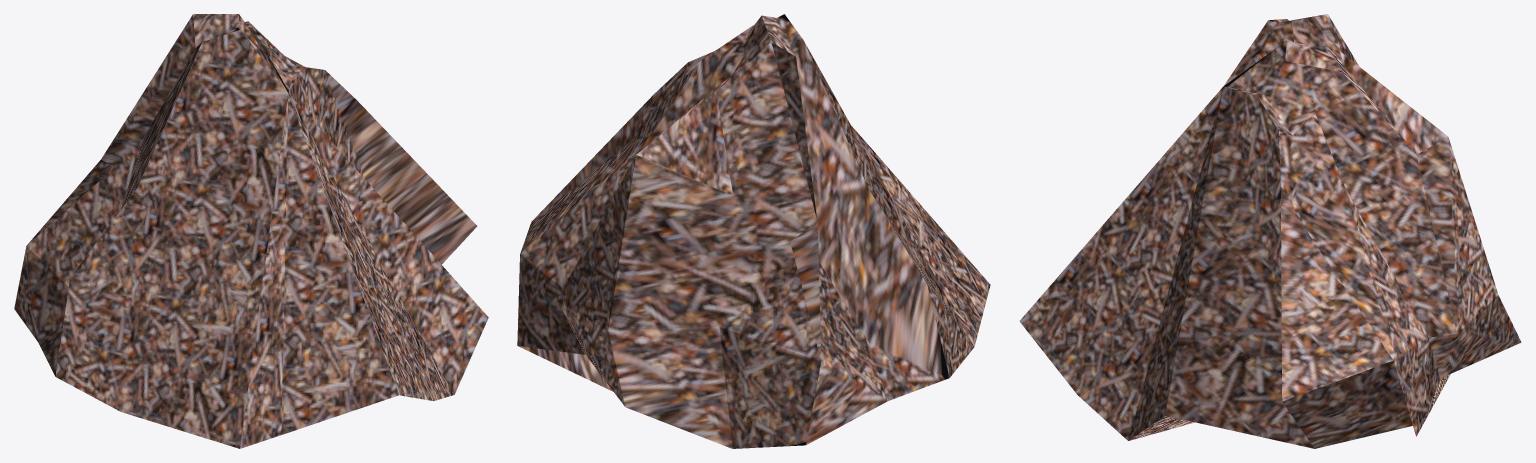
The model's file is Garbage.fbx.
3 renders of one model, left to right at view 1: azimuth 30°, elevation 25°; view 2: azimuth 150°, elevation 25°; view 3: azimuth 270°, elevation 25°, orthographic.
Visible parts, largest first — view 1: Cone; view 2: Cone; view 3: Cone.
Boxes of the visible parts, x1,y1,x2,y2 form: Cone: (14,14,488,448); Cone: (517,14,990,448); Cone: (1019,14,1521,448).
Bounding box in the file's own units: 213 × 172 × 220.
